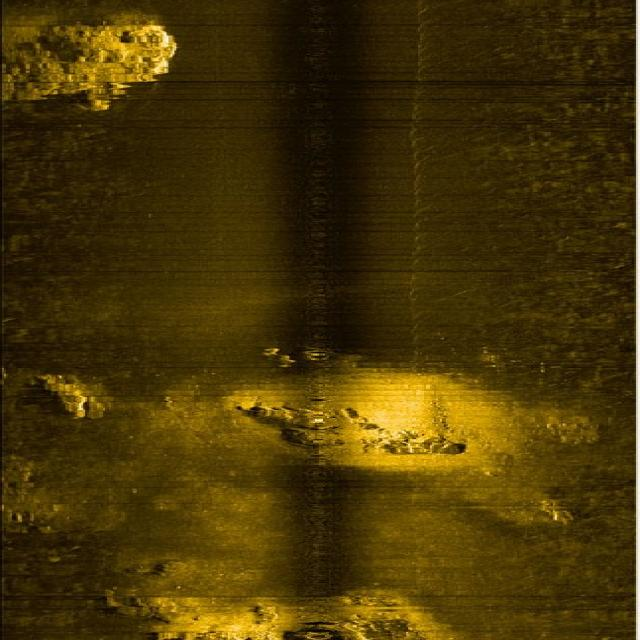other: (208, 377, 517, 477), (12, 10, 202, 117), (124, 586, 470, 631), (30, 356, 113, 432)
